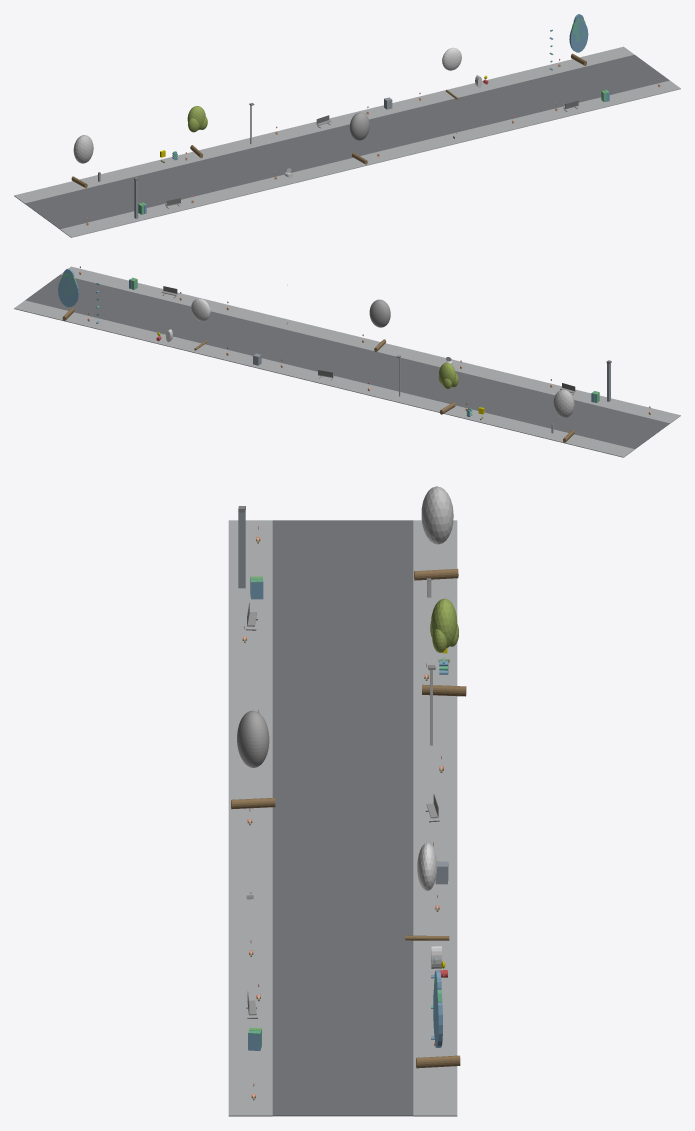
3 renders of one model, top to bottom at view 1: azimuth 30°, elevation 25°; view 2: azimuth 150°, elevation 25°; view 3: azimuth 270°, elevation 25°, orthographic. The views are drawn at different scales.
Parts seen in each view (by area): view 1: road_slab, sidewalk_left, sidewalk_right, inst_0016, inst_0012, inst_0014, inst_0013, inst_0015; view 2: road_slab, sidewalk_right, sidewalk_left, inst_0016, inst_0012, inst_0014, inst_0013, inst_0015; view 3: road_slab, sidewalk_left, sidewalk_right, inst_0012, inst_0014, inst_0013, inst_0016, inst_0015.
Part boxes in pixels (x1,y1,x2,y2): road_slab: (25,54,669,229); sidewalk_left: (60,80,680,237); sidewalk_right: (14,46,634,203); inst_0016: (569,14,588,65); inst_0012: (71,135,93,188); inst_0014: (349,112,369,164); inst_0013: (187,106,207,158); inst_0015: (442,47,461,99); road_slab: (25,274,669,449); sidewalk_right: (14,300,634,457); sidewalk_left: (60,266,680,423); inst_0016: (58,268,78,321); inst_0012: (553,389,574,442); inst_0014: (369,299,390,351); inst_0013: (438,362,458,414); inst_0015: (191,298,210,350); road_slab: (272,520,413,1116); sidewalk_left: (228,520,272,1116); sidewalk_right: (413,520,457,1116); inst_0012: (414,486,458,580); inst_0014: (231,710,275,809); inst_0013: (422,598,466,696); inst_0016: (416,970,460,1068); inst_0015: (405,843,449,940).
Size of the model in its own units: 80 by 6.08 by 13.51.
